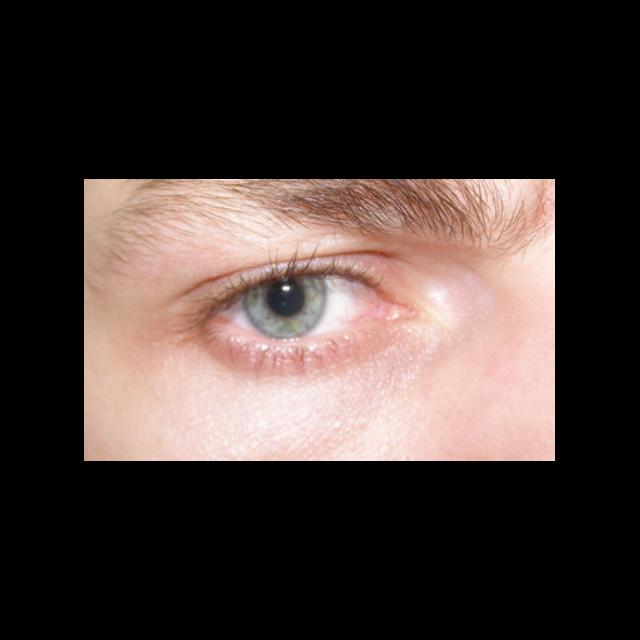eye: (219, 274, 385, 342)
iris: (245, 278, 327, 338)
